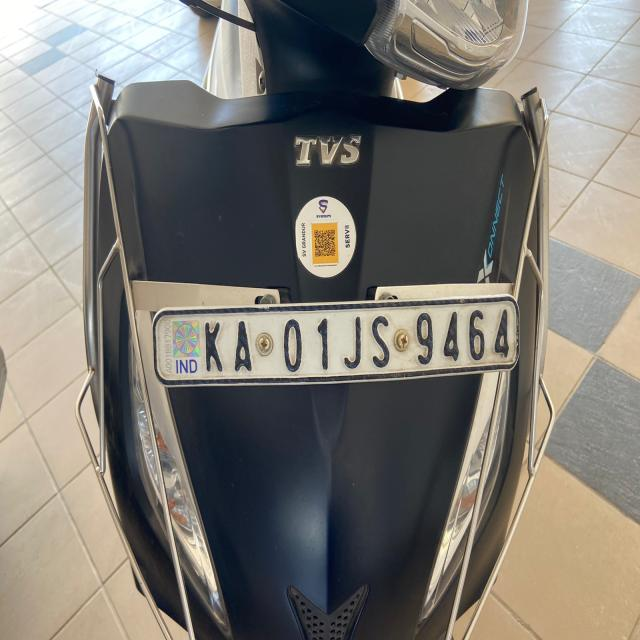0: (278, 316, 312, 376)
1: (309, 314, 336, 374)
4: (488, 301, 517, 364), (442, 304, 463, 366)
6: (467, 304, 489, 362)
9: (413, 308, 436, 368)
A: (229, 316, 257, 381)
J: (342, 314, 365, 374)
K: (202, 316, 224, 377)
S: (369, 312, 392, 369)
